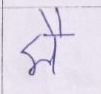ai_matra: (38, 7, 71, 34)
